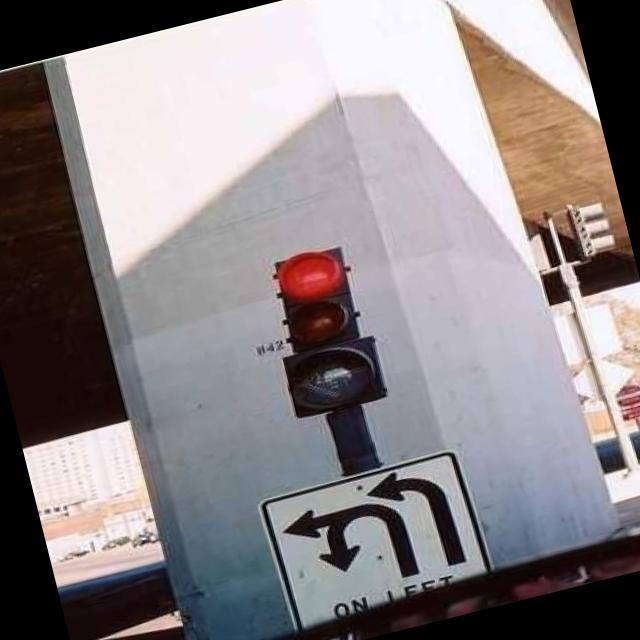red-lights: (255, 235, 365, 318)
